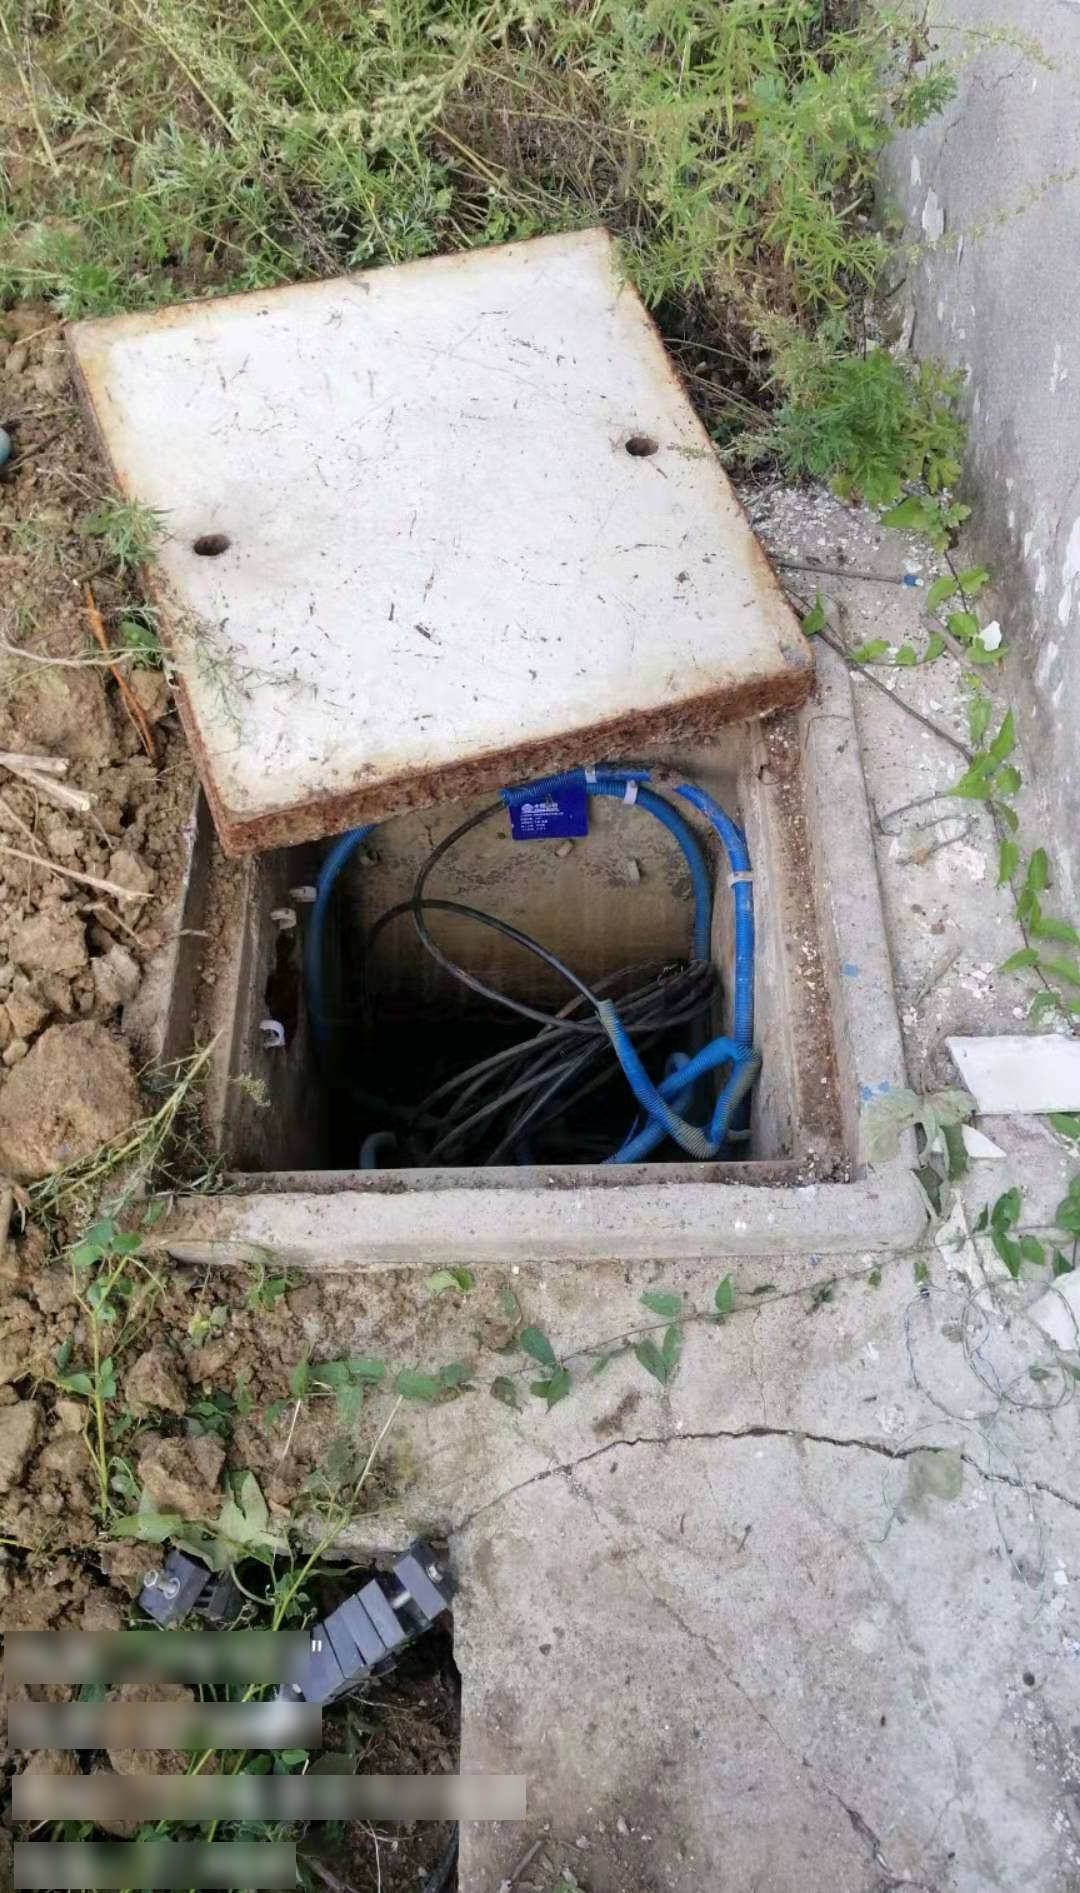uncovered: (58, 224, 938, 1261)
